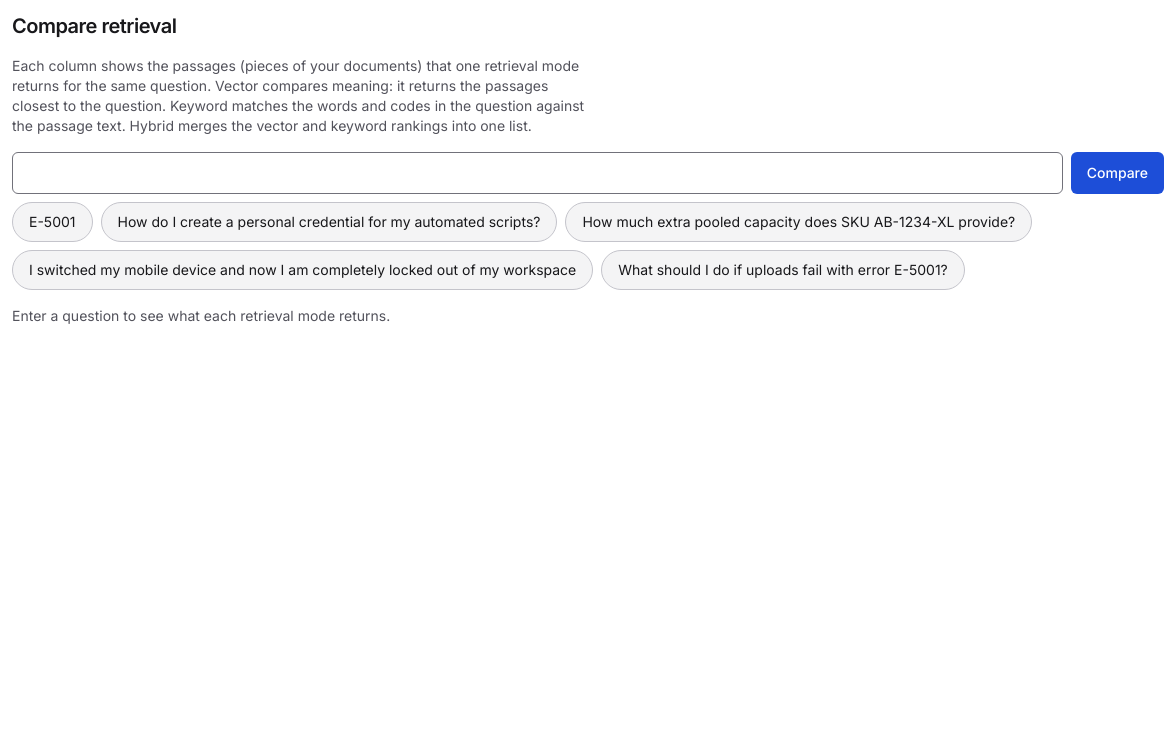
it: 429 on one column shows the Retry-After message while others still render; retry re-runs only that mode
The width and height of the screenshot is (1176, 732).
Type "refunds" into the search field named "Search query".
click(537, 173); type("refunds")  # box [12, 152, 1063, 194]
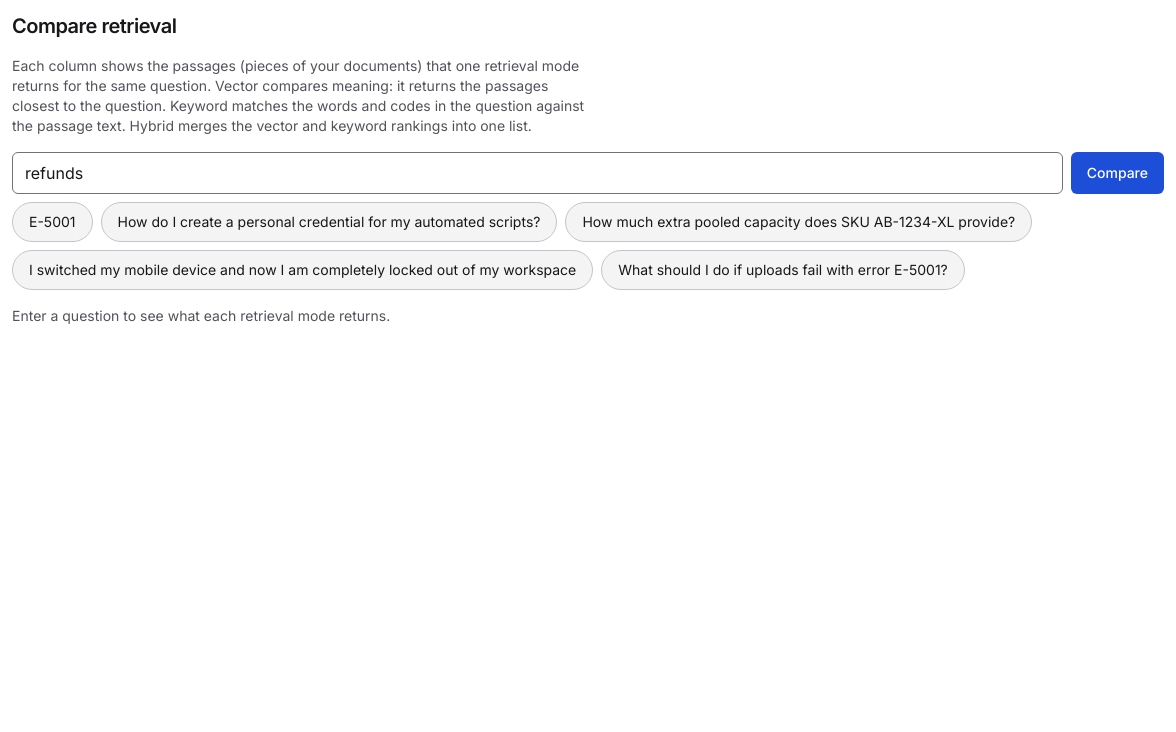
Click the button "Compare".
click(1117, 173)  # box [1071, 152, 1164, 194]
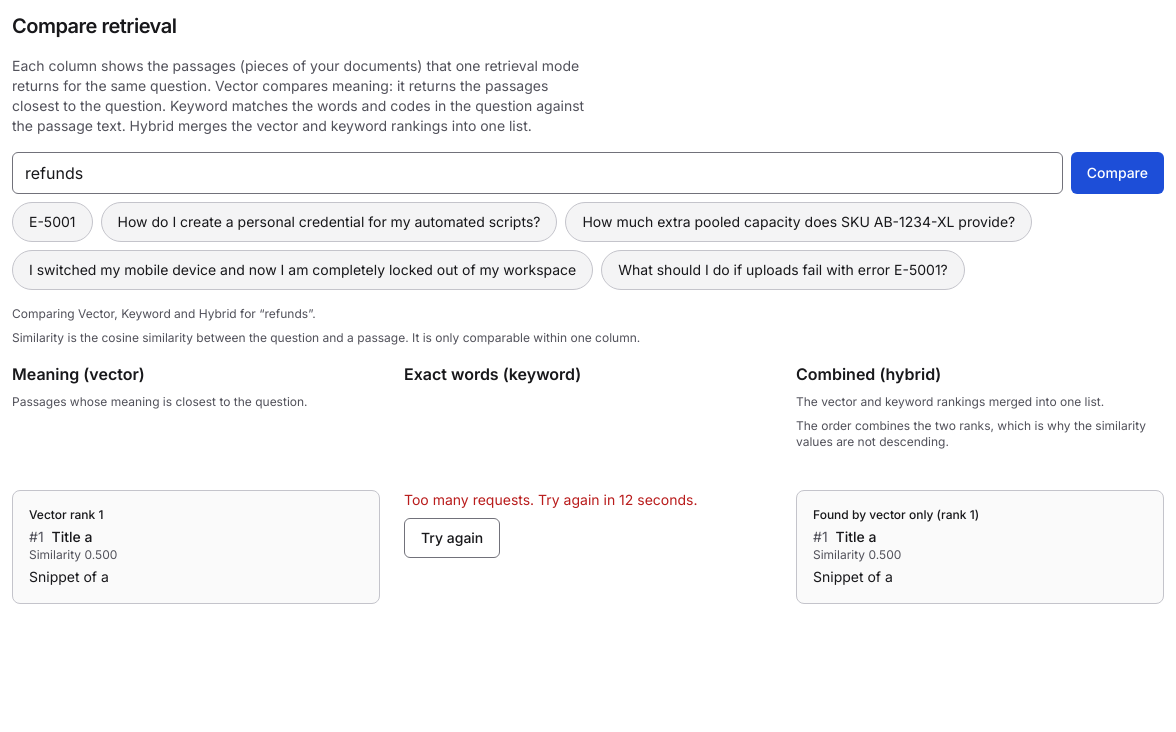
Expected: the message shows "Try again in 12 seconds", [404, 491, 698, 508]
Expected: the list named "Vector results" is shown, [12, 490, 380, 604]
Click the button with aria-label "Retry Keyword".
click(452, 538)  # box [404, 518, 500, 558]
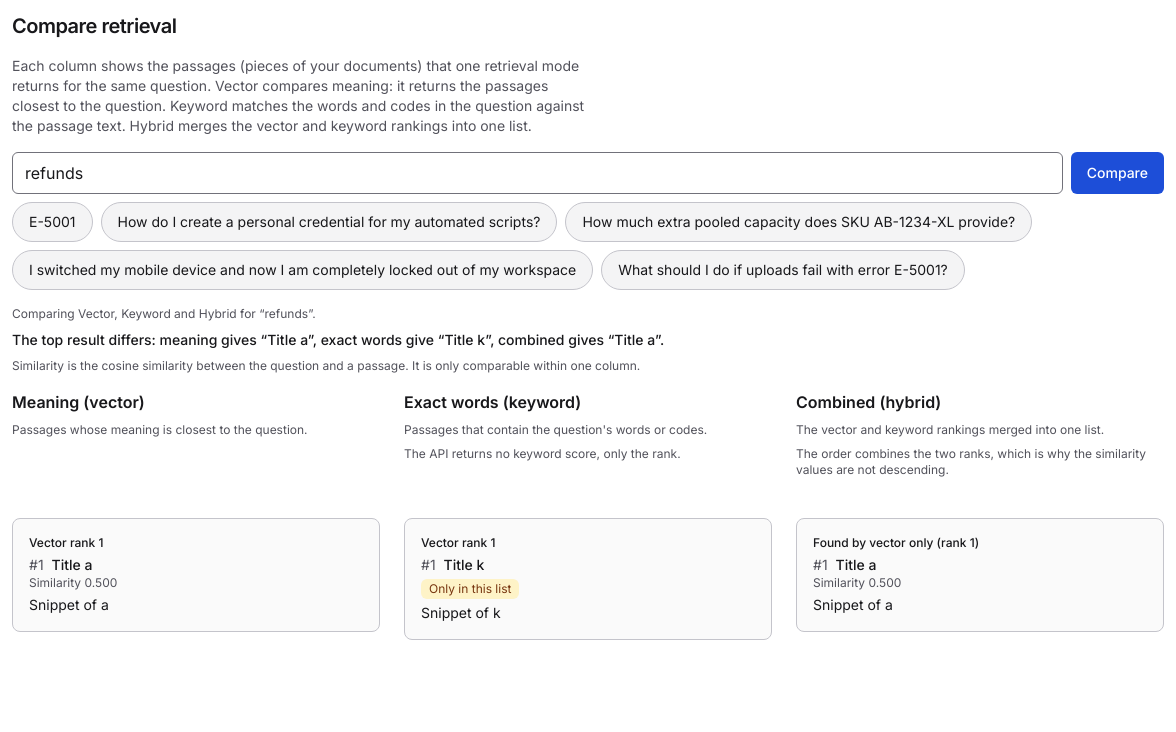
Expected: the list named "Keyword results" is shown, [404, 518, 772, 640]
